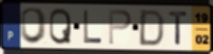D: (137, 8, 166, 48)
L: (82, 9, 104, 45)
O: (18, 6, 48, 46)
P: (108, 8, 133, 46)
Q: (48, 7, 73, 46)
T: (168, 10, 189, 46)
